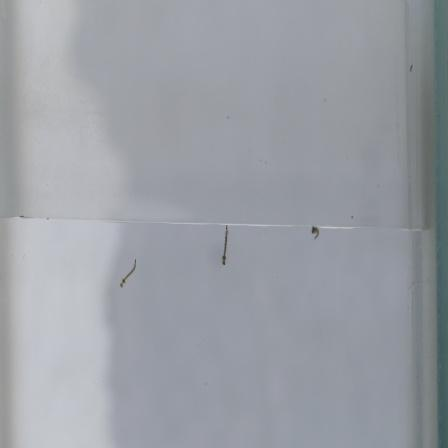Jentik-Nyamuk: (216, 222, 235, 271), (118, 258, 141, 287), (304, 222, 327, 244)
